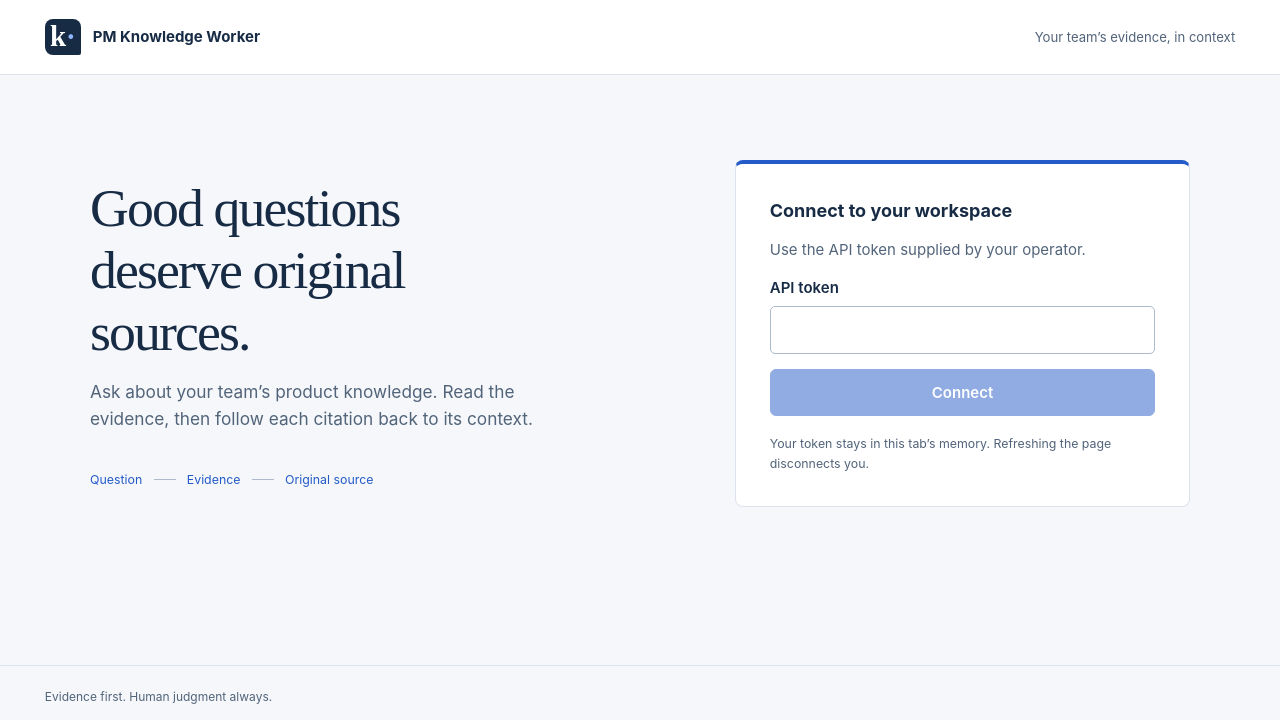
explains an empty workspace list
Step 1. Type "synthetic-token" into the password field labelled "API token" → (963, 330), box [770,306,1155,354]
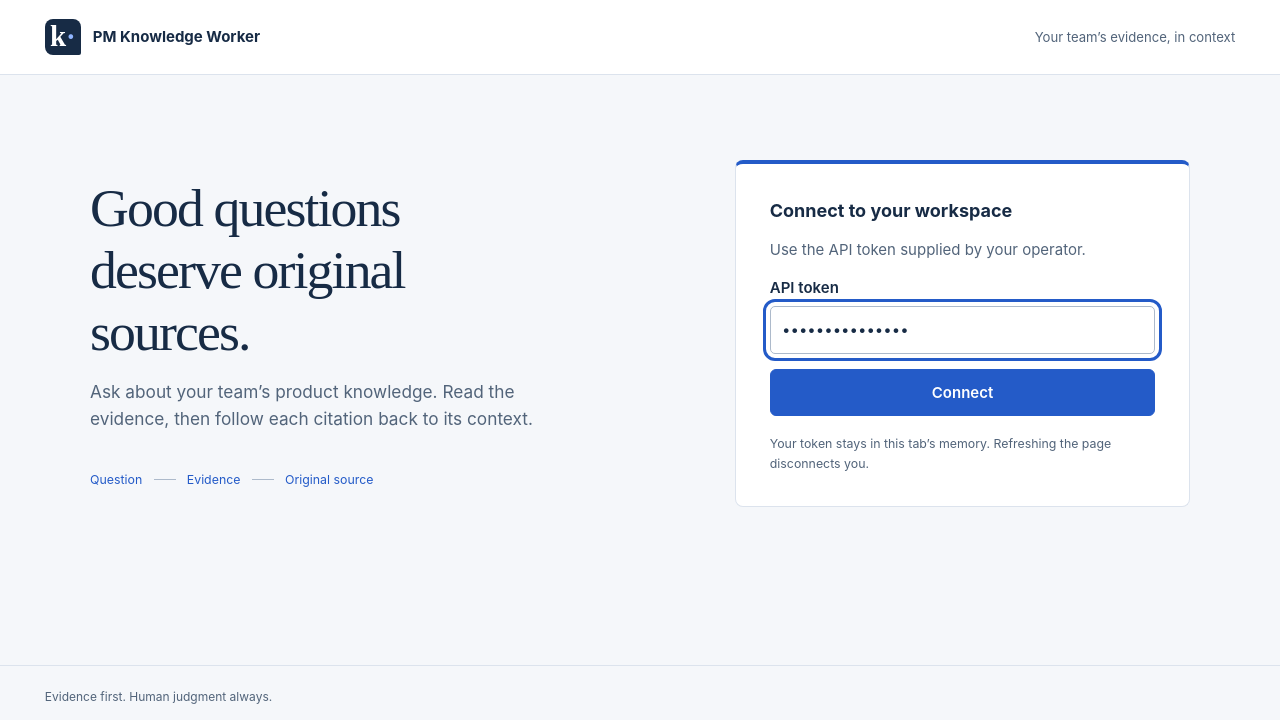
Step 2. Click the button "Connect" → (963, 392), box [770,369,1155,416]
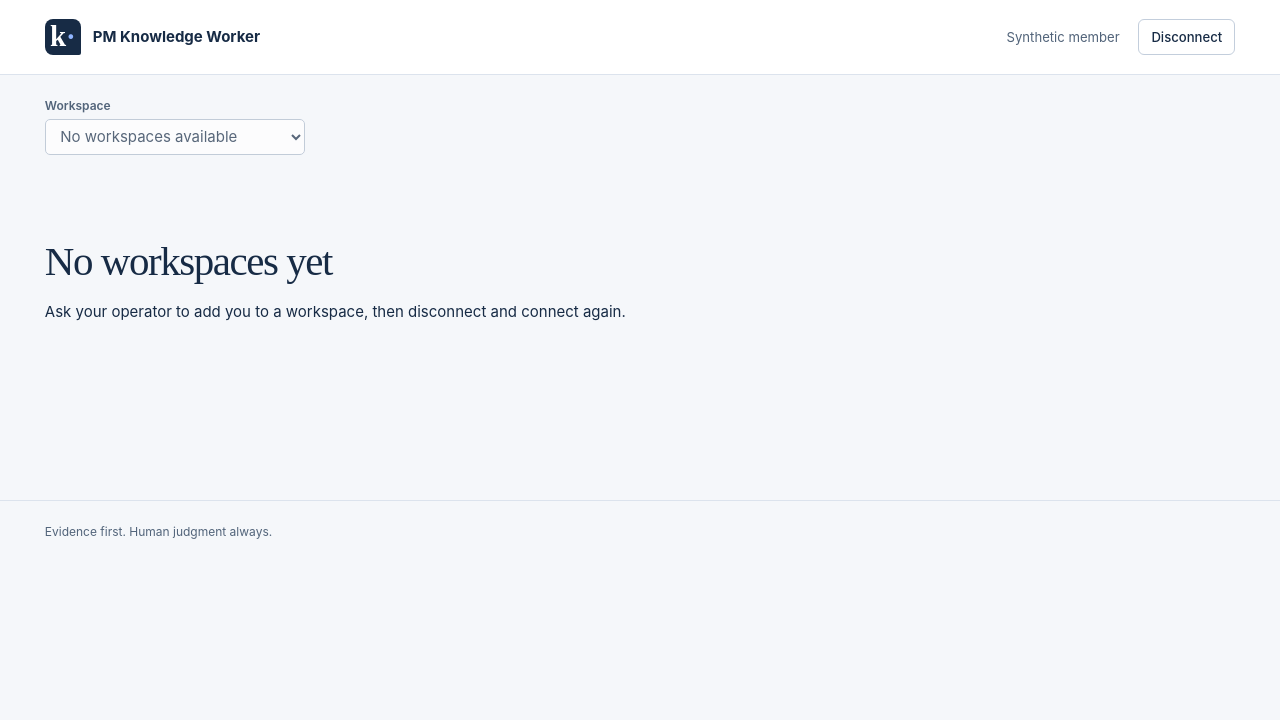
expect the heading "No workspaces yet" is shown: met, box [45,238,332,284]
